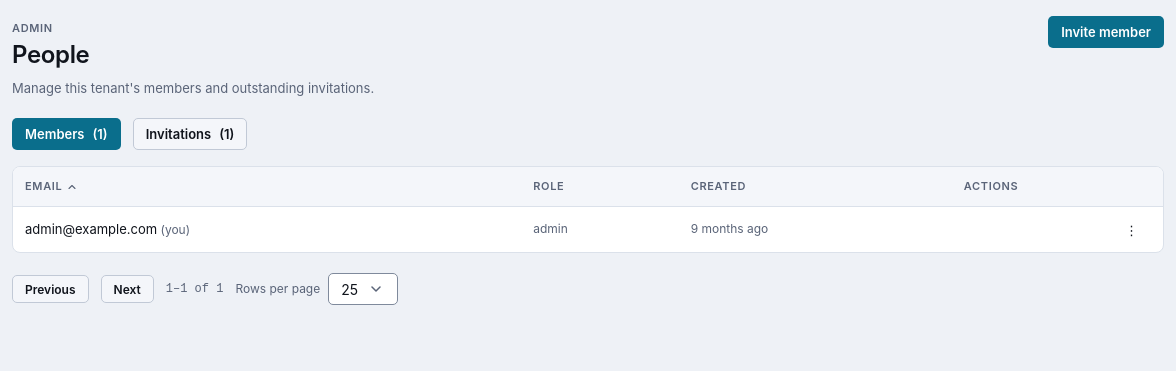
Scenario: PeoplePage › lists pending invitations with email, role, status and expiry, on the Invitations segment
This screenshot has width=1176, height=371.
Expected: the text "admin@example.com" is shown, [25,221,157,237]
Click the button "Invitations (1)" at coordinates (190, 134), box [133,118,247,150]
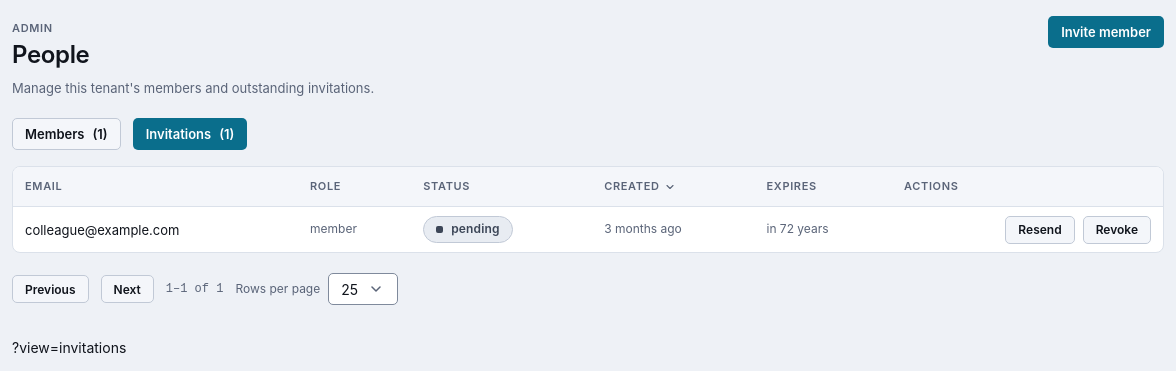
Now the cell "colleague@example.com" is shown, box [13,207,298,252]
Now the text "pending" is shown, box [423,216,513,243]
